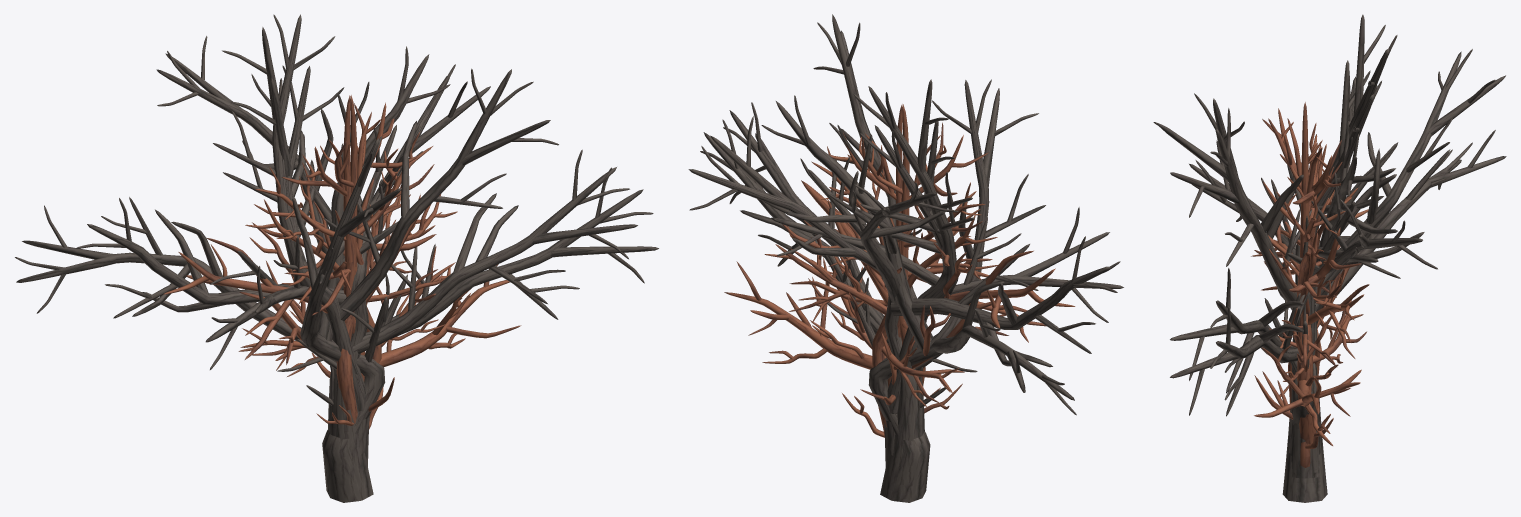
Rendered from deadtree.glb.
3 views of the same model, side by side, from view 1: azimuth 30°, elevation 25°; view 2: azimuth 150°, elevation 25°; view 3: azimuth 270°, elevation 25° (orthographic). The views are drawn at different scales.
Visible parts, largest first — view 1: DeadTree_8, DeadTree_7, DeadTree_10, DeadTree_6, DeadTree_2, DeadTree_4, DeadTree_3, DeadTree_1, DeadTree_9; view 2: DeadTree_8, DeadTree_7, DeadTree_10, DeadTree_6, DeadTree_3, DeadTree_2, DeadTree_4, DeadTree_1, DeadTree_5, DeadTree_9; view 3: DeadTree_8, DeadTree_7, DeadTree_10, DeadTree_6, DeadTree_3, DeadTree_2, DeadTree_1, DeadTree_4, DeadTree_5, DeadTree_9.
Part boxes in pixels (x1=…): DeadTree_8: x1=76, y1=36, x2=658, y2=500; DeadTree_7: x1=15, y1=46, x2=450, y2=502; DeadTree_10: x1=205, y1=14, x2=558, y2=466; DeadTree_6: x1=223, y1=65, x2=637, y2=496; DeadTree_2: x1=239, y1=95, x2=455, y2=381; DeadTree_4: x1=163, y1=194, x2=457, y2=424; DeadTree_3: x1=240, y1=193, x2=521, y2=416; DeadTree_1: x1=245, y1=95, x2=434, y2=340; DeadTree_9: x1=306, y1=274, x2=407, y2=405; DeadTree_8: x1=688, y1=116, x2=1117, y2=500; DeadTree_7: x1=761, y1=79, x2=1076, y2=502; DeadTree_10: x1=813, y1=14, x2=1123, y2=467; DeadTree_6: x1=723, y1=102, x2=974, y2=455; DeadTree_3: x1=724, y1=198, x2=992, y2=436; DeadTree_2: x1=808, y1=104, x2=1008, y2=387; DeadTree_4: x1=782, y1=180, x2=1075, y2=385; DeadTree_1: x1=811, y1=104, x2=997, y2=368; DeadTree_5: x1=842, y1=332, x2=962, y2=437; DeadTree_9: x1=827, y1=277, x2=945, y2=407; DeadTree_8: x1=1170, y1=49, x2=1505, y2=502; DeadTree_7: x1=1153, y1=93, x2=1506, y2=493; DeadTree_10: x1=1170, y1=14, x2=1397, y2=477; DeadTree_6: x1=1170, y1=60, x2=1400, y2=501; DeadTree_3: x1=1251, y1=224, x2=1369, y2=445; DeadTree_2: x1=1261, y1=102, x2=1361, y2=381; DeadTree_1: x1=1262, y1=102, x2=1352, y2=297; DeadTree_4: x1=1254, y1=144, x2=1368, y2=411; DeadTree_5: x1=1254, y1=327, x2=1361, y2=467; DeadTree_9: x1=1264, y1=298, x2=1309, y2=372.
Size of what is drawn, in the model's own units: 8.3 by 7.14 by 5.03.
2 materials, 2 textured.
